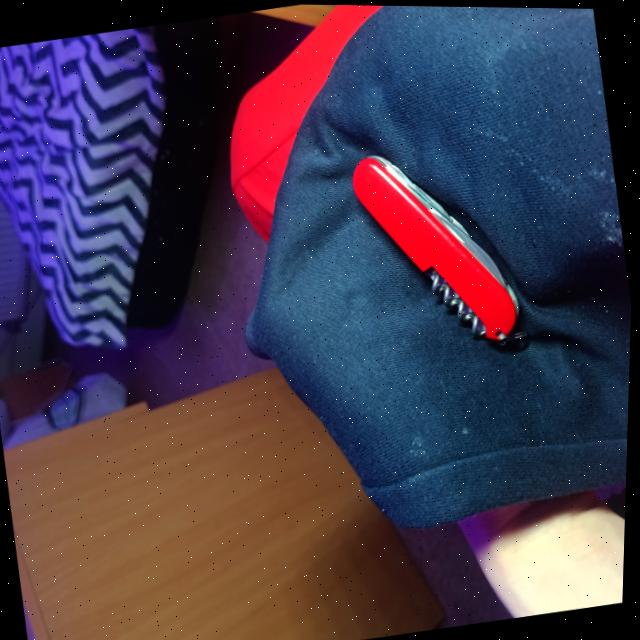knife victorinox: (354, 154, 521, 338)
